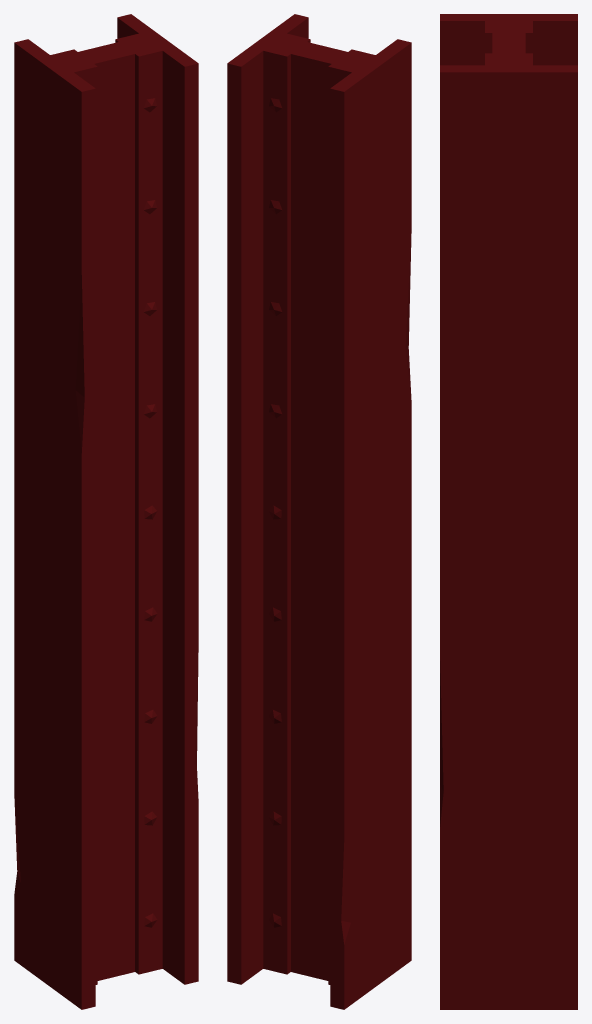
File: SW_ENV_PillarGirderMid_3m.fbx
The picture shows the model from 3 angles, left to right: view 1: azimuth 30°, elevation 25°; view 2: azimuth 150°, elevation 25°; view 3: azimuth 270°, elevation 25°; orthographic projection. The views are drawn at different scales.
Parts seen in each view (by area): view 1: SW_ENV_PillarGirderMid_3m; view 2: SW_ENV_PillarGirderMid_3m; view 3: SW_ENV_PillarGirderMid_3m.
Part boxes in pixels (<box>): SW_ENV_PillarGirderMid_3m: <box>14,14,198,1009</box>; SW_ENV_PillarGirderMid_3m: <box>227,14,411,1009</box>; SW_ENV_PillarGirderMid_3m: <box>440,14,577,1009</box>.
Size of the model in its own units: 40 by 300 by 40.
